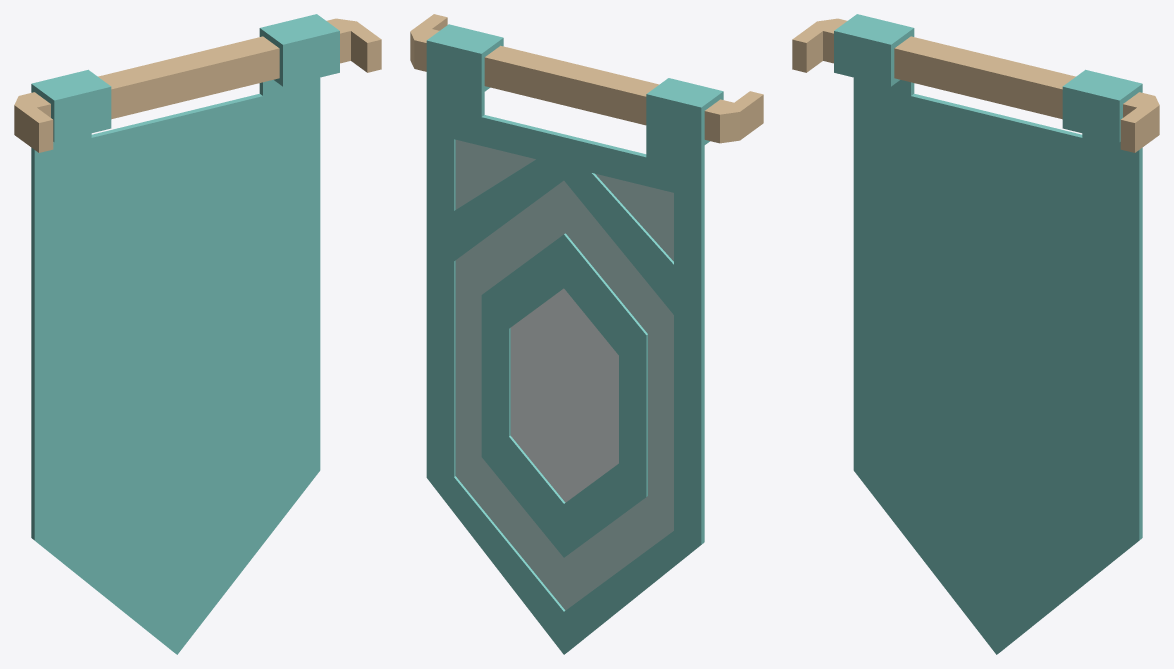
The model's file is opengameart-modular-temple-3d-models_18.glb.
3 views of the same model, side by side, from view 1: azimuth 30°, elevation 25°; view 2: azimuth 150°, elevation 25°; view 3: azimuth 330°, elevation 25° (orthographic). The views are drawn at different scales.
Parts seen in each view (by area): view 1: object2, object1; view 2: object2, object1; view 3: object2, object1.
Boxes of the visible parts, x1,y1,x2,y2 form: object2: (31, 14, 339, 654); object1: (14, 18, 381, 152); object2: (426, 24, 723, 654); object1: (410, 14, 763, 143); object2: (834, 14, 1142, 654); object1: (792, 18, 1159, 152).
Size of the model in its own units: 0.54 by 0.909 by 0.099.
